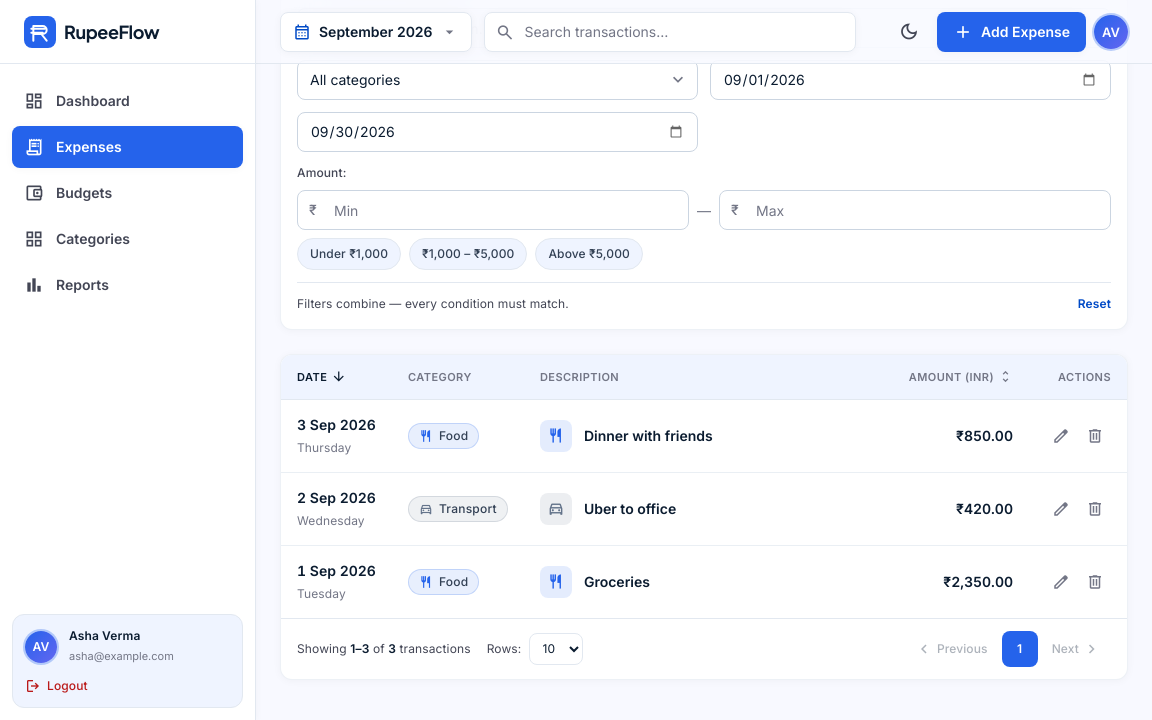
Test: Expenses › deletes after confirmation and removes the row immediately (optimistic)
(page scrolled)
What coordinates should you click on to do the following:
click the button named "Delete Dinner with friends"
I would click on:
 (1095, 436)
Its box is [1079, 420, 1111, 452].
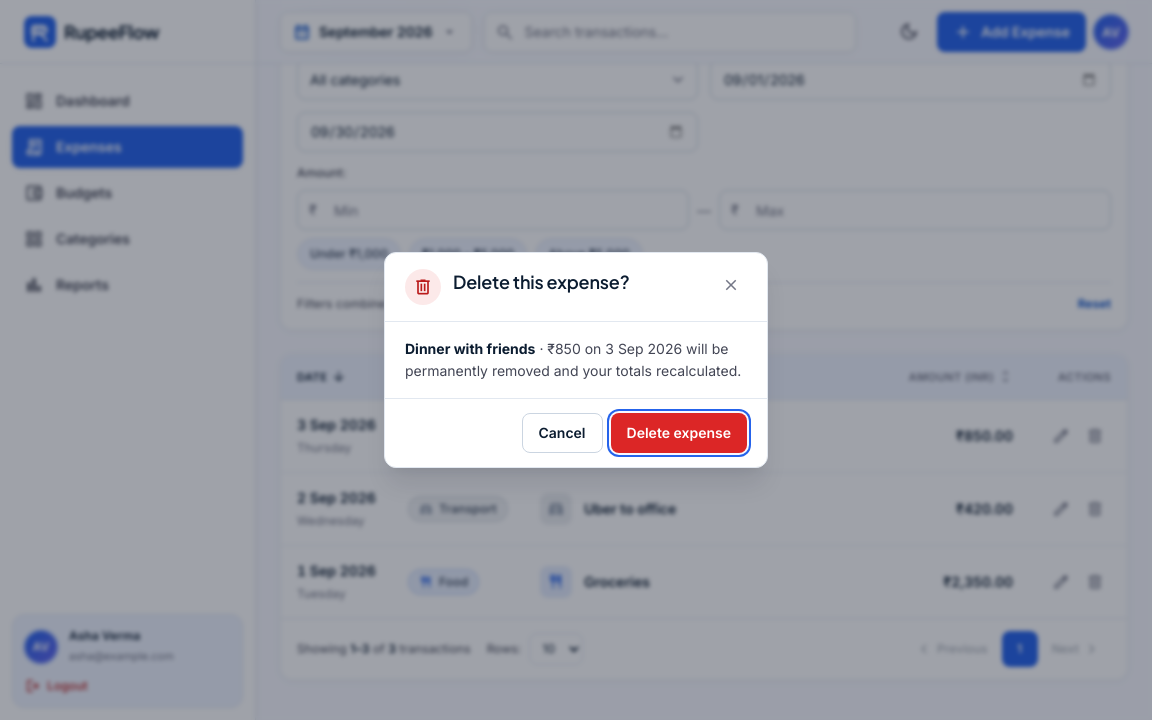
What coordinates should you click on to do the following:
click the button "Delete expense"
I would click on:
 (679, 433)
Its box is [610, 413, 747, 453].
(page scrolled)
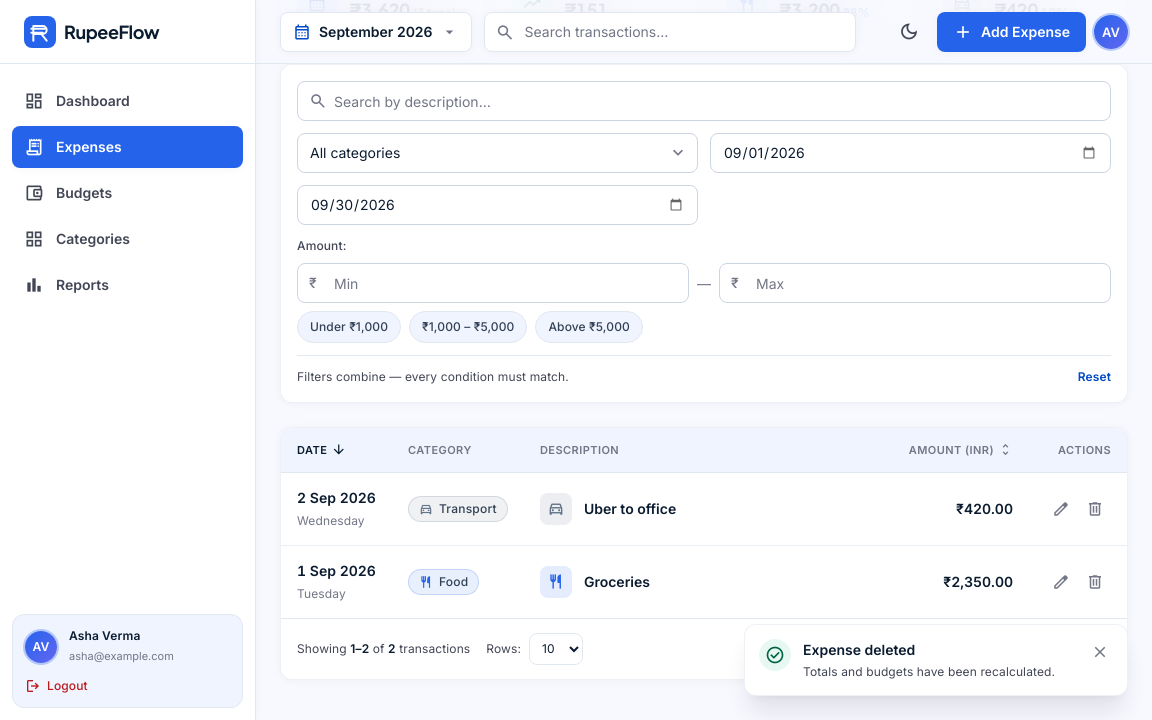
Now the text "Dinner with friends" is gone
Now the text "Expense deleted" is shown, box [803, 641, 915, 658]
